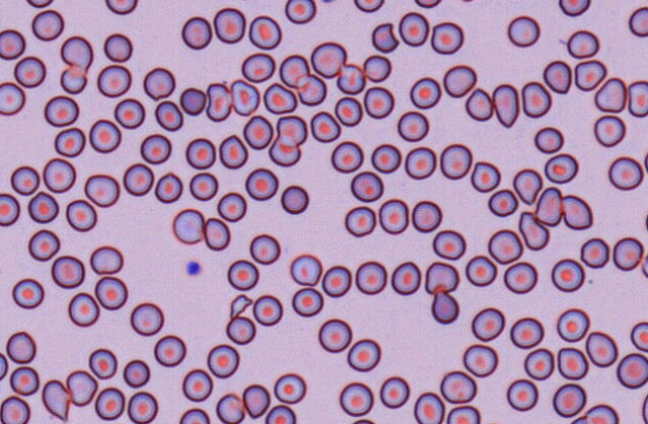PLT: (185, 261, 203, 276)
RBC: (310, 41, 346, 78), (487, 228, 523, 264), (41, 379, 71, 421), (518, 210, 549, 250), (42, 157, 76, 193), (462, 343, 498, 377), (439, 370, 476, 403), (552, 382, 586, 417), (339, 381, 373, 416), (84, 173, 119, 207), (608, 156, 643, 190), (492, 83, 519, 127), (585, 331, 618, 367), (439, 143, 472, 179), (534, 186, 563, 226), (318, 318, 352, 352), (551, 258, 585, 292), (130, 302, 164, 336), (471, 307, 505, 341), (424, 261, 459, 294), (556, 307, 589, 342), (346, 338, 381, 371), (88, 118, 121, 153), (594, 77, 627, 112), (67, 291, 99, 327), (172, 208, 204, 244), (213, 7, 245, 43), (66, 369, 97, 406), (616, 352, 647, 389), (503, 261, 537, 294), (248, 15, 281, 49), (206, 344, 239, 378), (442, 64, 476, 97), (94, 276, 127, 310), (97, 64, 131, 97), (44, 95, 79, 127), (521, 81, 551, 118), (153, 334, 186, 367), (289, 253, 322, 286), (51, 255, 84, 288), (330, 140, 363, 173), (430, 21, 463, 54), (245, 167, 278, 200), (263, 82, 297, 114), (556, 346, 588, 380), (509, 316, 543, 348), (143, 66, 175, 100), (355, 260, 387, 294), (561, 194, 592, 229), (242, 114, 273, 149), (398, 11, 429, 46), (612, 236, 643, 271), (378, 198, 408, 234), (13, 55, 46, 87), (506, 378, 538, 411), (273, 372, 306, 404), (31, 9, 64, 41), (350, 170, 383, 202), (409, 76, 441, 109), (507, 15, 540, 47), (404, 146, 436, 179), (593, 114, 625, 147), (279, 54, 310, 88), (94, 386, 125, 420), (123, 162, 154, 196), (390, 261, 421, 295), (544, 153, 578, 184), (432, 229, 466, 260), (218, 134, 248, 169), (230, 79, 259, 115), (28, 229, 60, 261), (27, 191, 59, 223), (574, 59, 606, 91), (397, 110, 429, 142), (465, 254, 497, 286), (65, 199, 97, 231), (268, 135, 301, 166), (523, 347, 554, 380), (181, 16, 212, 49), (182, 368, 212, 402), (241, 52, 275, 82), (276, 114, 307, 146), (127, 391, 158, 423), (344, 205, 376, 236), (411, 200, 442, 232), (363, 86, 394, 118), (296, 73, 326, 106), (89, 245, 123, 274), (242, 383, 270, 418), (413, 392, 444, 423), (140, 133, 171, 164), (114, 98, 145, 129), (227, 259, 258, 290), (249, 233, 280, 264), (379, 376, 409, 408), (310, 110, 340, 142), (12, 278, 44, 308), (6, 331, 36, 363), (291, 287, 323, 317), (185, 137, 215, 169), (252, 294, 282, 326), (321, 265, 351, 297), (430, 291, 459, 324), (542, 60, 571, 93), (566, 29, 599, 58), (465, 87, 493, 121), (54, 127, 85, 157), (470, 161, 500, 192), (370, 143, 401, 173), (336, 62, 365, 94), (154, 171, 183, 203), (215, 393, 245, 423), (10, 165, 40, 195), (88, 348, 117, 379), (217, 191, 246, 222), (154, 100, 183, 131), (487, 188, 518, 217), (580, 237, 609, 268), (203, 217, 230, 250), (9, 366, 39, 395), (103, 32, 132, 62), (0, 81, 25, 115), (189, 172, 218, 201), (0, 395, 30, 423), (225, 316, 255, 344), (334, 96, 362, 126), (280, 184, 308, 214), (533, 126, 563, 153), (363, 54, 391, 82), (123, 359, 150, 388), (0, 28, 25, 59), (284, 0, 316, 24), (179, 87, 206, 115), (627, 80, 647, 117), (584, 403, 618, 423), (0, 192, 20, 226), (446, 405, 480, 423), (628, 6, 647, 37), (265, 404, 296, 423), (630, 321, 647, 352), (558, 0, 590, 16), (179, 407, 210, 423), (105, 0, 137, 14), (353, 0, 384, 12), (0, 352, 8, 380), (26, 0, 53, 8), (414, 0, 441, 8), (642, 393, 648, 423), (642, 252, 648, 278), (570, 415, 588, 423), (351, 418, 375, 423), (643, 151, 648, 173), (0, 2, 3, 26), (645, 211, 648, 231), (320, 0, 338, 3), (502, 0, 529, 2), (458, 0, 479, 2), (232, 0, 258, 1)
Schistocyte: (61, 34, 94, 70), (513, 169, 543, 205), (207, 83, 233, 121), (371, 22, 400, 53), (59, 69, 88, 95), (228, 295, 254, 318)
